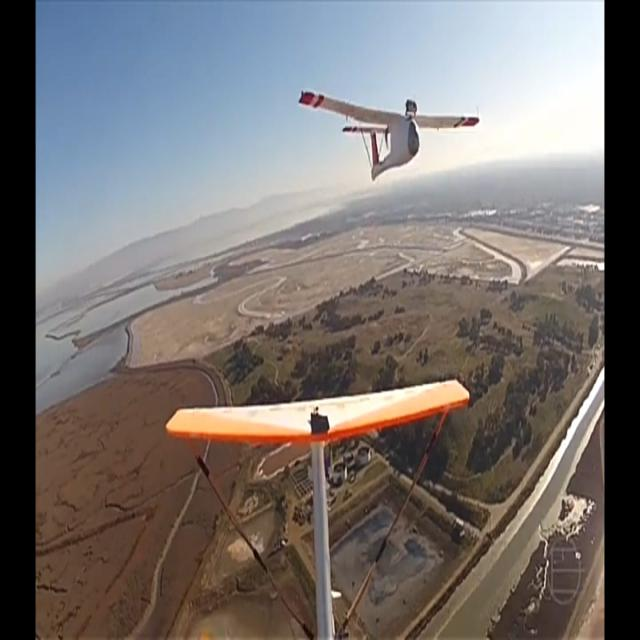iha: (297, 112, 480, 146)
